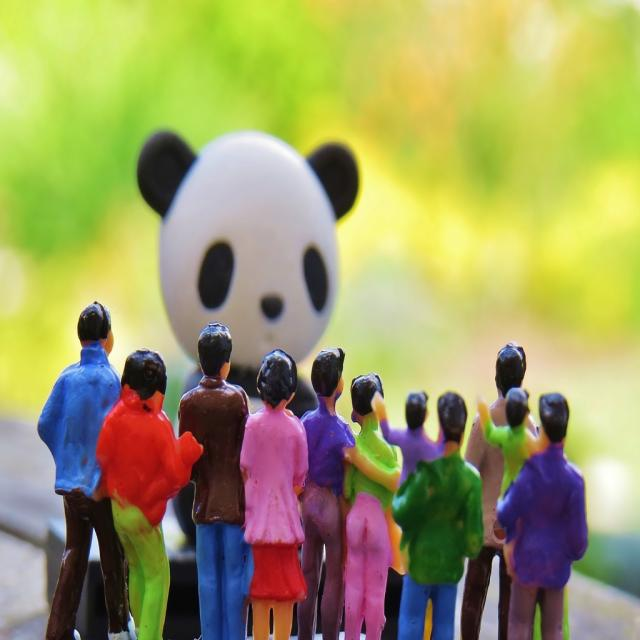panda: (137, 127, 360, 541)
